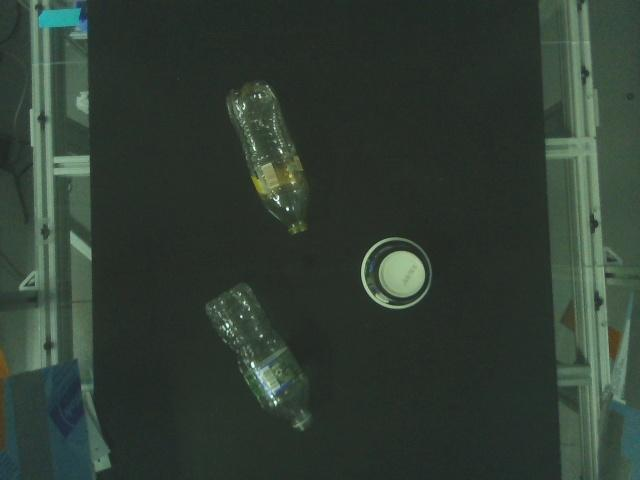plastic: (206, 281, 316, 433), (224, 80, 315, 236), (360, 236, 433, 311)
